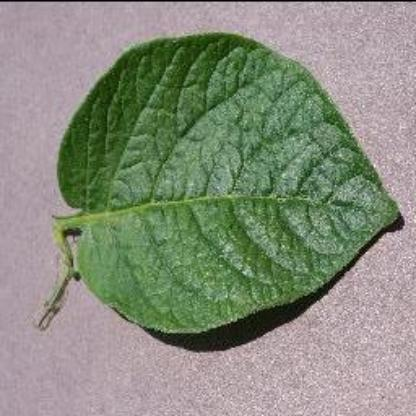Healthy-plant: (44, 31, 406, 336)
